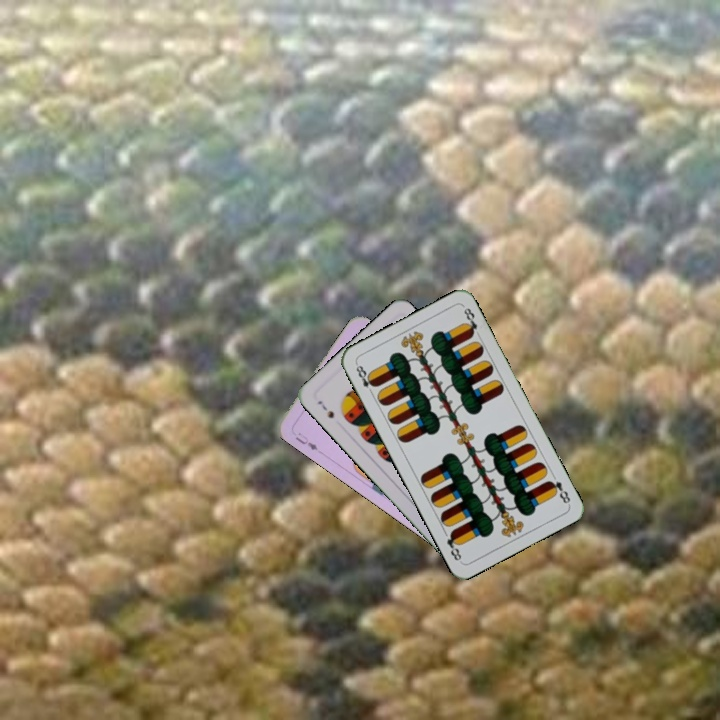E8: (352, 360, 379, 398), (544, 476, 573, 507)
EU: (291, 428, 320, 453)
S7: (314, 396, 337, 421)
